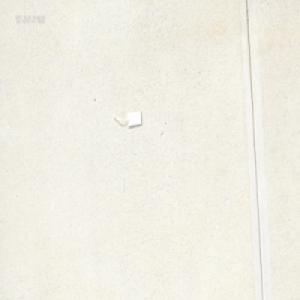LuggageTag: (111, 110, 142, 128)
